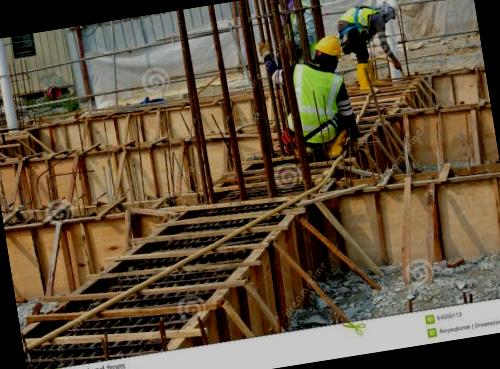person: (256, 28, 360, 166), (335, 0, 422, 92)
